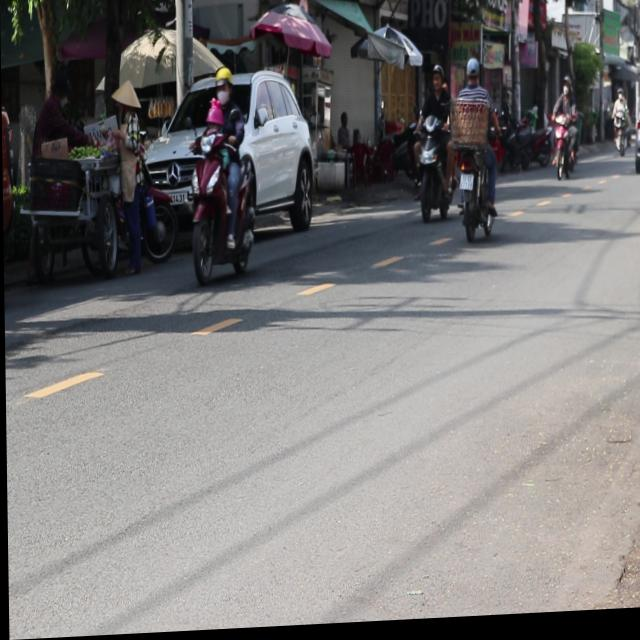helmet: (213, 68, 232, 104)
licenseplate: (184, 65, 257, 290), (449, 58, 499, 248)
motorcyclist: (464, 60, 480, 88)
nohelmet: (459, 178, 473, 194)
